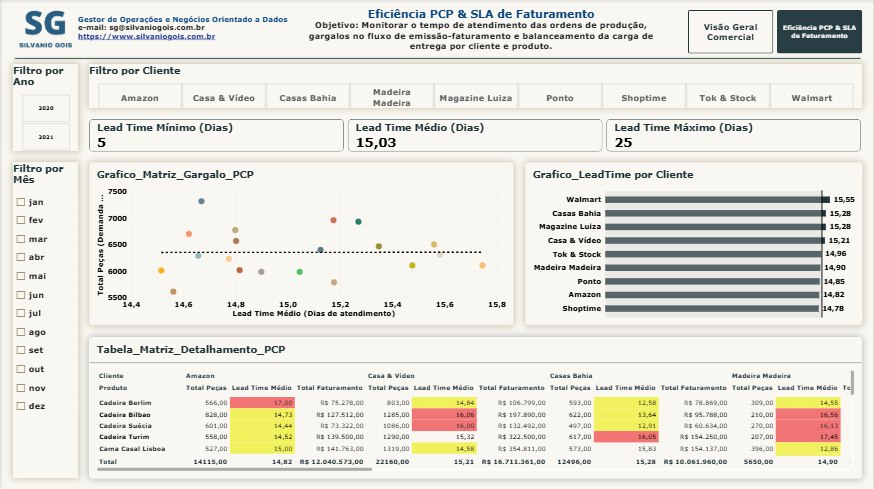

The page's visual inventory and layout, read from the dashboard file:
{"tool":"powerbi","page":{"name":"Eficiência PCP & SLA de Faturamento","canvas":[1920,1080],"ordinal":1},"visuals":[{"type":"image","box":[24,0,144,120],"z":0},{"type":"textbox","box":[168,0,480,120],"z":1000},{"type":"textbox","box":[648,0,816,120],"z":2000},{"type":"pageNavigator","box":[1512,24,384,96],"z":3000},{"type":"shape","box":[24,120,1872,24],"z":4000},{"type":"slicer","title":"Filtro por Mês","fields":{"Values":["dCalendario.Mês"]},"box":[24,360,144,696],"z":4001},{"type":"slicer","title":"Filtro por Ano","fields":{"Values":["dCalendario.Ano"]},"box":[24,144,144,192],"z":4002},{"type":"slicer","title":"Filtro por Cliente","fields":{"Values":["fVendas.Cliente"]},"box":[192,144,1704,96],"z":4003},{"type":"cardVisual","fields":{"Data":["MedidasOperacionaisPCP.Lead Time Mínimo","MedidasOperacionaisPCP.Lead Time Médio","MedidasOperacionaisPCP.Lead Time Máximo"]},"box":[192,264,1704,72],"z":4004},{"type":"scatterChart","title":"Grafico_Matriz_Gargalo_PCP","fields":{"Series":["fVendas.Produto"],"X":["MedidasOperacionaisPCP.Lead Time Médio"],"Y":["MedidasBase.Total Peças"]},"box":[192,360,936,360],"z":4005},{"type":"barChart","title":"Grafico_LeadTime por Cliente","fields":{"Category":["fVendas.Cliente"],"Y":["MedidasOperacionaisPCP.Lead Time Médio"]},"box":[1152,360,744,360],"z":4006},{"type":"pivotTable","title":"Tabela_Matriz_Detalhamento_PCP","fields":{"Columns":["fVendas.Cliente"],"Rows":["fVendas.Produto"],"Values":["MedidasBase.Total Peças","MedidasOperacionaisPCP.Lead Time Médio","MedidasBase.Total Faturamento"]},"box":[192,744,1704,312],"z":4007}]}

Visuals, with their boxes in screenshot pixels (x1, y1, x2, y2), scaled from the page's 1920x1080 canvas onto the 874x489 screenshot:
image: (x1=11, y1=0, x2=76, y2=54)
textbox: (x1=76, y1=0, x2=295, y2=54)
textbox: (x1=295, y1=0, x2=666, y2=54)
pageNavigator: (x1=688, y1=11, x2=863, y2=54)
shape: (x1=11, y1=54, x2=863, y2=65)
"Filtro por Mês" slicer: (x1=11, y1=163, x2=76, y2=478)
"Filtro por Ano" slicer: (x1=11, y1=65, x2=76, y2=152)
"Filtro por Cliente" slicer: (x1=87, y1=65, x2=863, y2=109)
cardVisual - MedidasOperacionaisPCP.Lead Time Mínimo x MedidasOperacionaisPCP.Lead Time Médio: (x1=87, y1=120, x2=863, y2=152)
"Grafico_Matriz_Gargalo_PCP" scatterChart: (x1=87, y1=163, x2=513, y2=326)
"Grafico_LeadTime por Cliente" barChart: (x1=524, y1=163, x2=863, y2=326)
"Tabela_Matriz_Detalhamento_PCP" pivotTable: (x1=87, y1=337, x2=863, y2=478)
